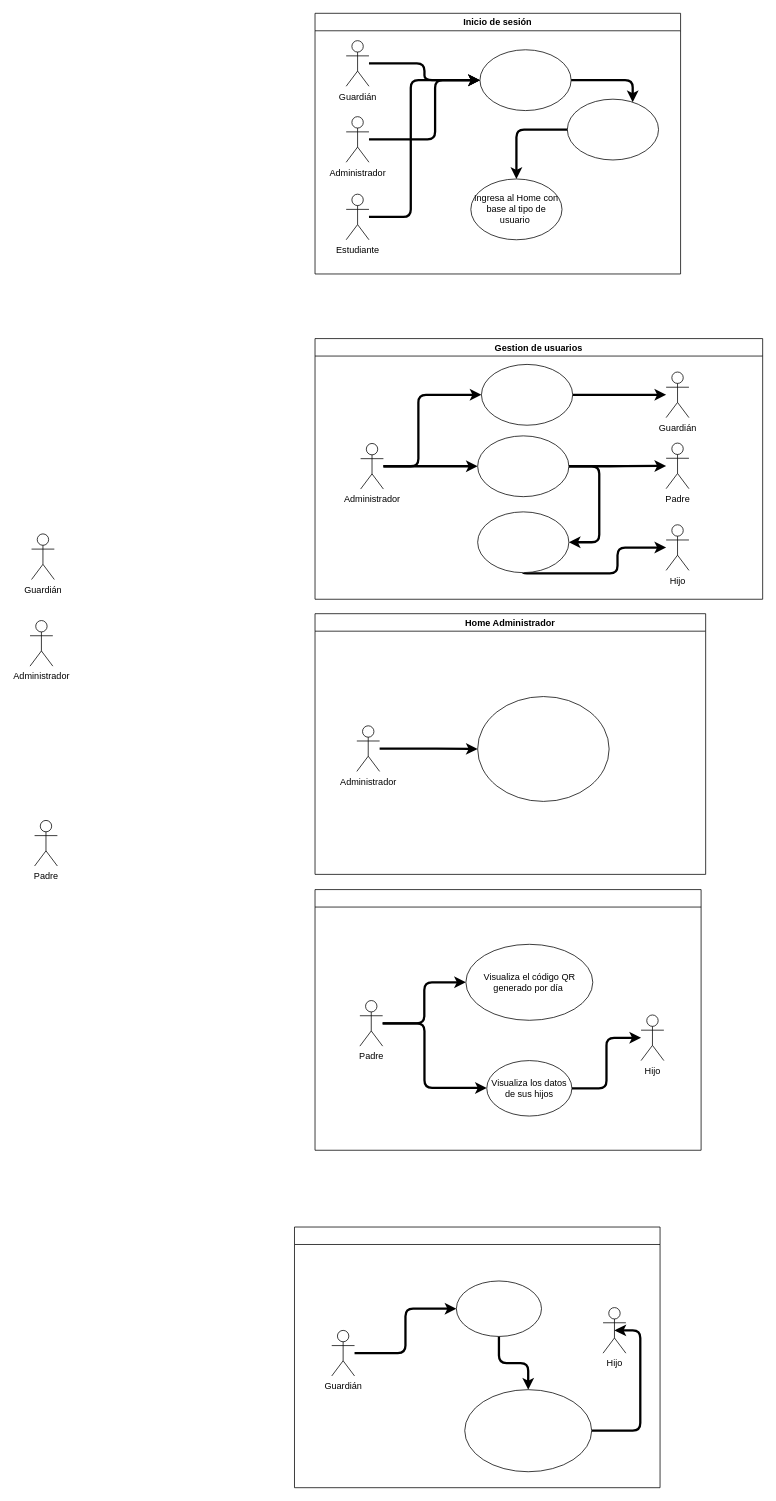
Some shapes in this 776 by 1501 pixel diagram are drawn without their labels. The box of each missing label's shape, as (x1, y1, x2, y2) in pixels:
CRUD guardianes: (481, 364, 573, 425)
CRUD Hijos: (477, 511, 569, 573)
CRUD Padres: (477, 435, 569, 497)
Home Guardián: (294, 1226, 660, 1488)
Home Padre: (314, 889, 701, 1150)
Ingresa las credenciales: (479, 49, 571, 111)
Se selecciona un hijo y se muestran los datos del padre: (464, 1389, 592, 1472)
Se valida la información: (567, 98, 659, 160)
Se visualizan los hijos presentes en el plante: (456, 1280, 542, 1336)
Se vizualizan los apardatos seleccionables para los usuarios guardianes y padres: (477, 696, 609, 801)
